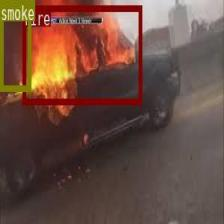fire: (22, 4, 141, 104)
smoke: (0, 0, 31, 91)
